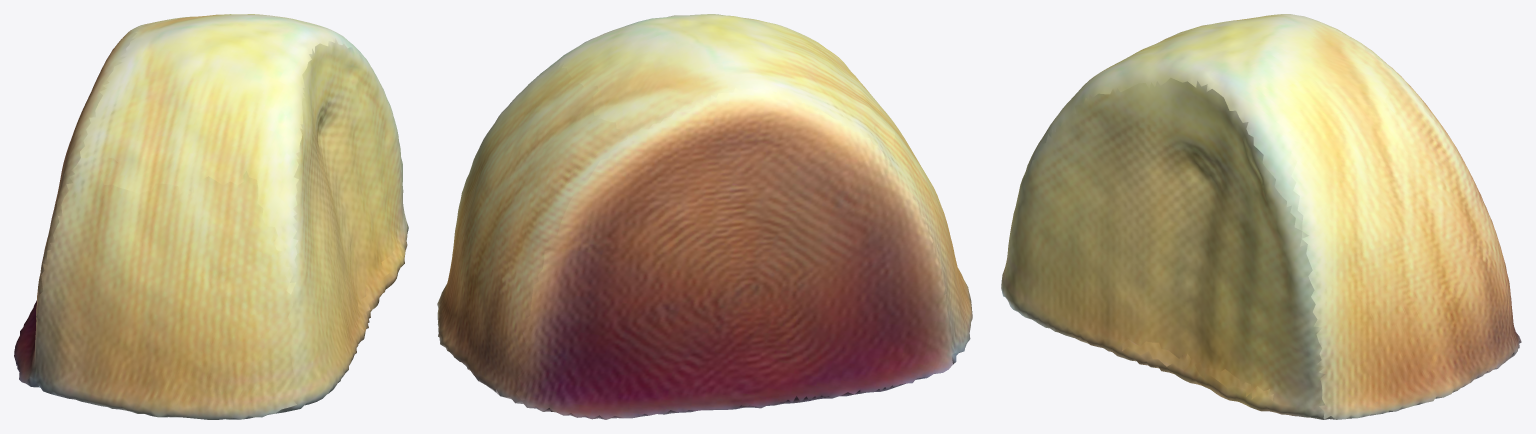
The model's file is tile_1.glb.
3 renders of one model, left to right at view 1: azimuth 30°, elevation 25°; view 2: azimuth 150°, elevation 25°; view 3: azimuth 270°, elevation 25°, orthographic. The views are drawn at different scales.
Visible parts, largest first — view 1: world; view 2: world; view 3: world.
Part boxes in pixels (x1,y1,x2,y2): world: (14, 14, 408, 419); world: (437, 14, 972, 419); world: (1001, 14, 1521, 419).
Bounding box in the file's own units: 0.7939 × 0.5056 × 0.8022.
Materials: 1 (1 with a texture image).
